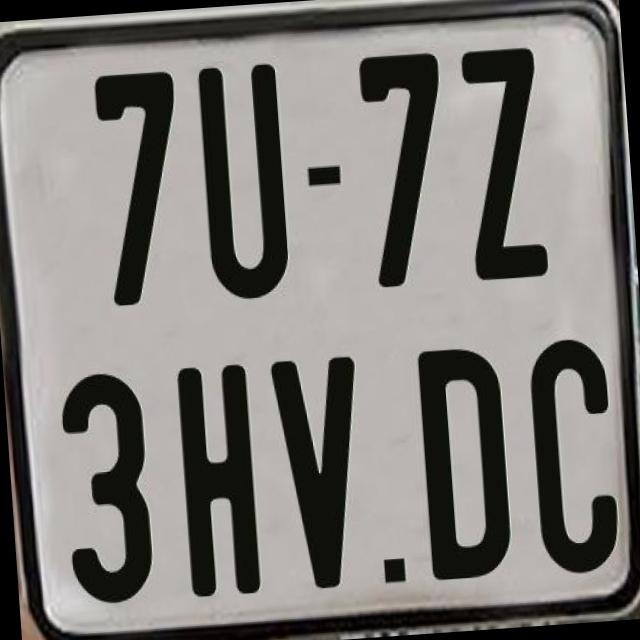3: (56, 370, 154, 606)
7: (91, 66, 194, 306), (354, 51, 448, 286)
C: (524, 335, 624, 574)
D: (416, 344, 516, 578)
H: (174, 360, 260, 596)
U: (194, 62, 287, 298)
V: (267, 356, 375, 600)
Z: (456, 42, 550, 282)
